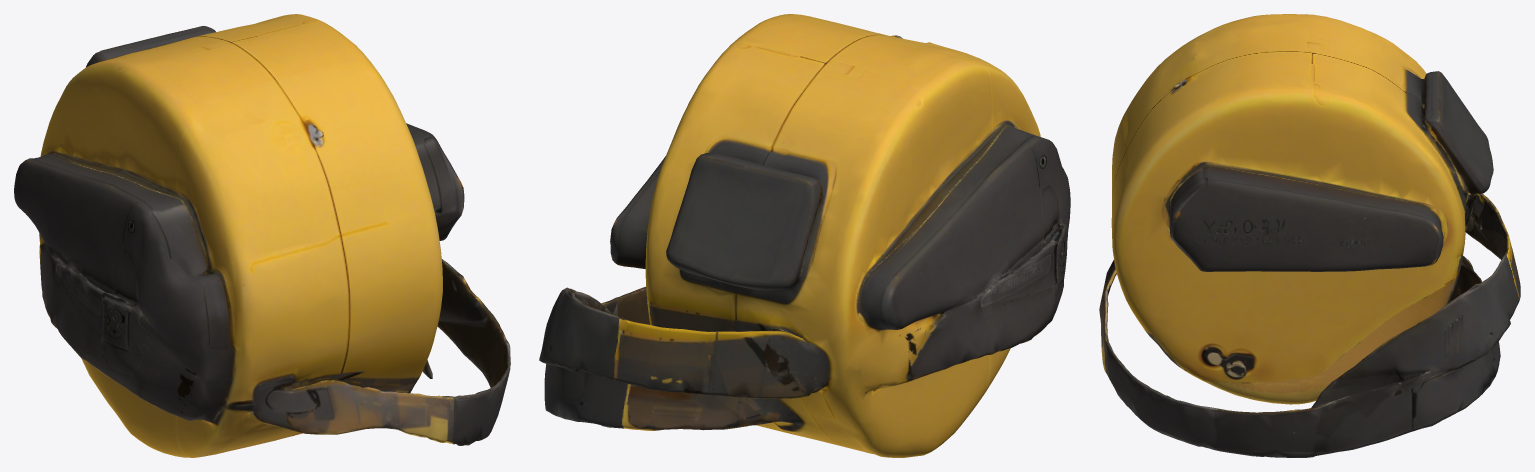
File: yellow_measuring_tape.glb
3 views of the same model, side by side, from view 1: azimuth 30°, elevation 25°; view 2: azimuth 150°, elevation 25°; view 3: azimuth 270°, elevation 25° (orthographic). The views are drawn at different scales.
Parts seen in each view (by area): view 1: Mesh1.0; view 2: Mesh1.0; view 3: Mesh1.0.
Part boxes in pixels (x1,y1,x2,y2): Mesh1.0: (14,14,510,457); Mesh1.0: (539,14,1070,457); Mesh1.0: (1099,14,1520,457).
Bounding box in the file's own units: 1.92 × 1.63 × 1.97.
1 material, 1 textured.
